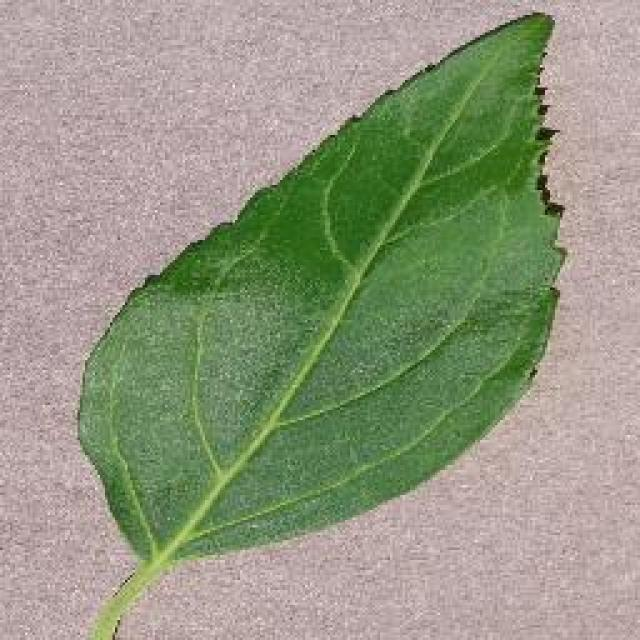Cher_including_sour_healthy: (110, 107, 560, 525)
